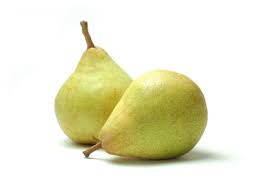pear: (98, 70, 209, 160)
